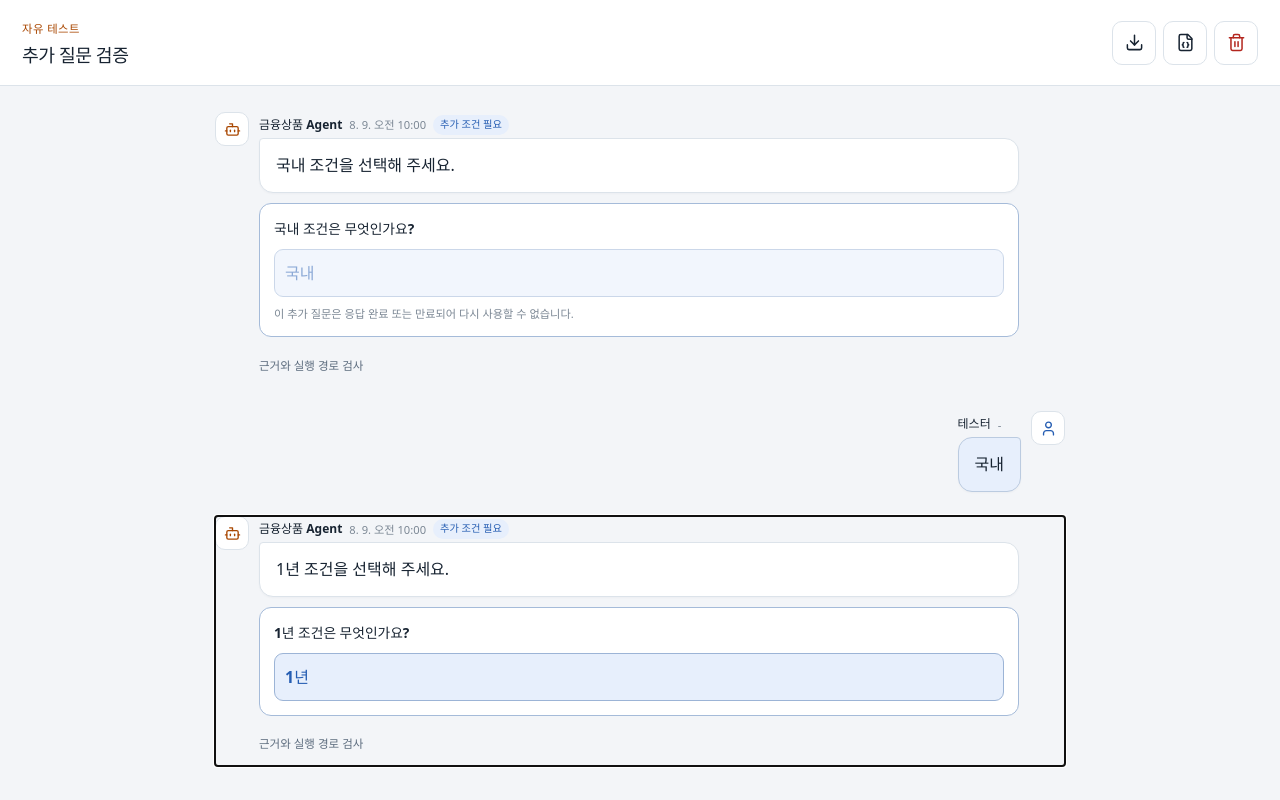
Scenario: ChatPanel clarification lifecycle › renders a chronological log and disables stale clarification options per message
The image size is (1280, 800).
Expected: the element named "대화 기록" is shown, [215,112,1065,766]
Expected: the button "국내" is disabled, [274,249,1004,297]
Click the button "1년" at (297,677), box [274,653,1004,701]
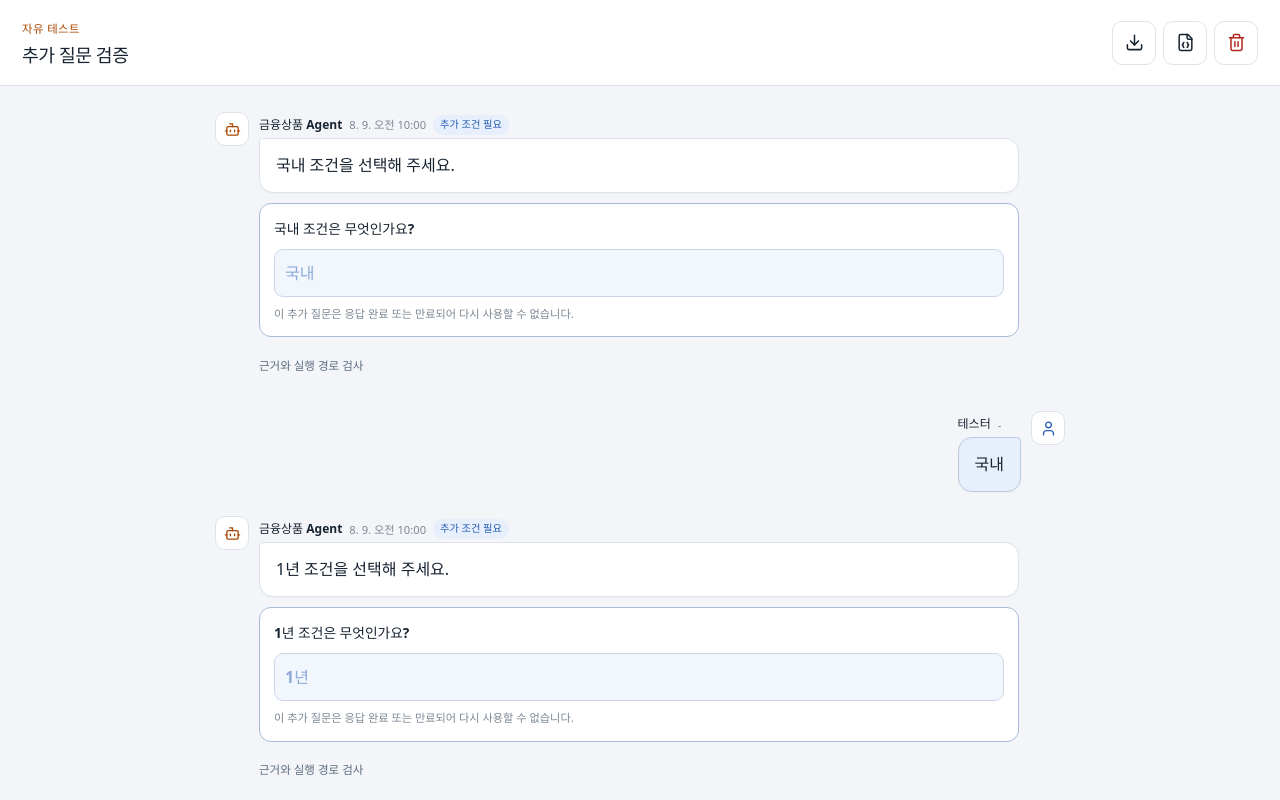
Expected: the button "1년" is disabled, [274,653,1004,701]
